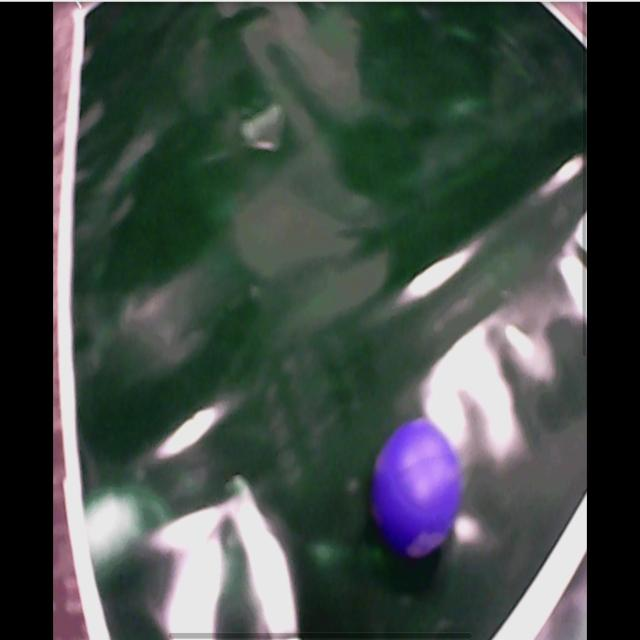ball: (375, 418, 460, 555)
